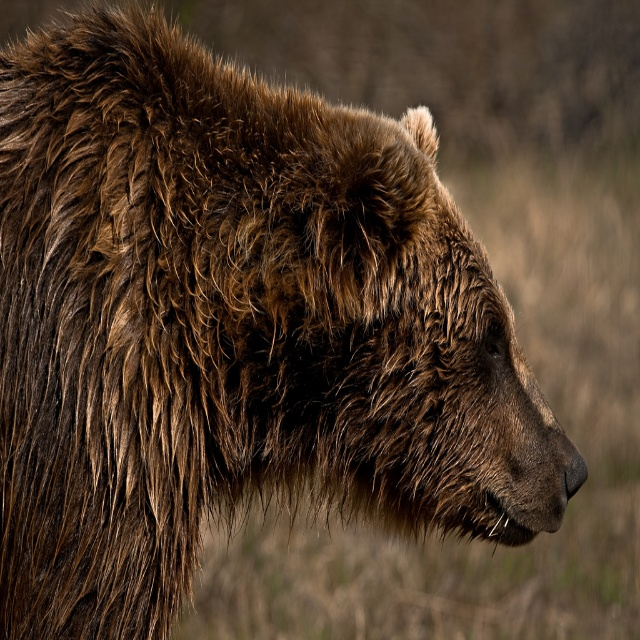Brown bear: (0, 0, 588, 640)
